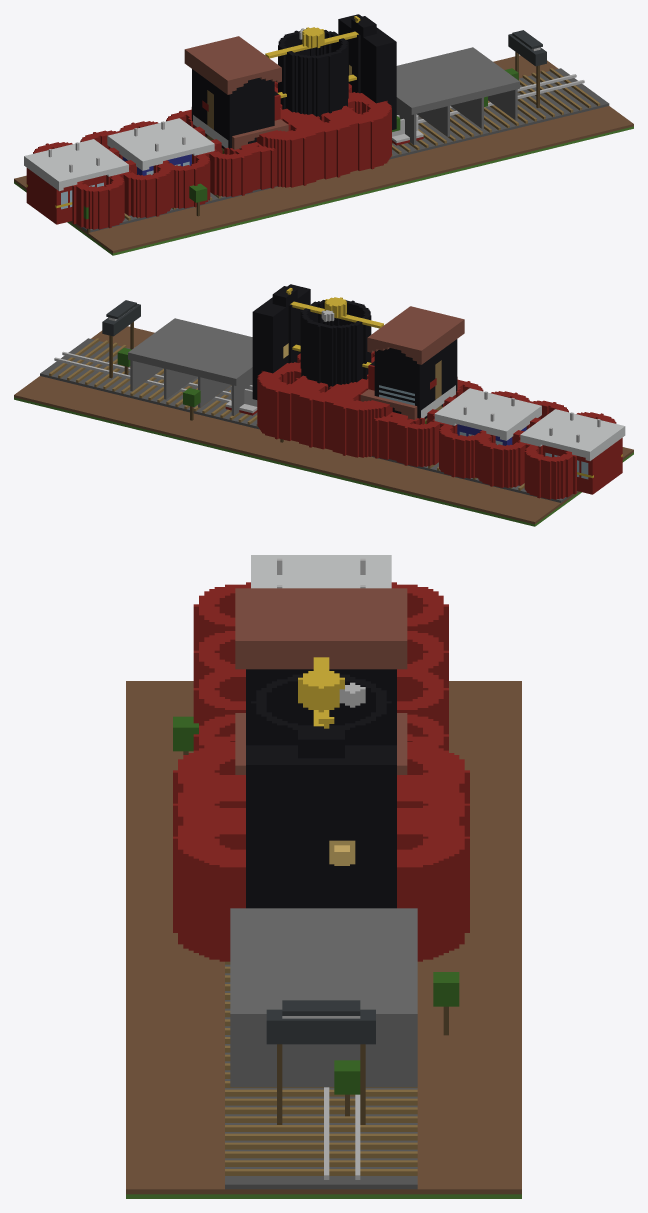
The picture shows the model from 3 angles, top to bottom: view 1: azimuth 30°, elevation 25°; view 2: azimuth 150°, elevation 25°; view 3: azimuth 270°, elevation 25°; orthographic projection. The views are drawn at different scales.
Size of the model in its own units: 241 by 55 by 76.
